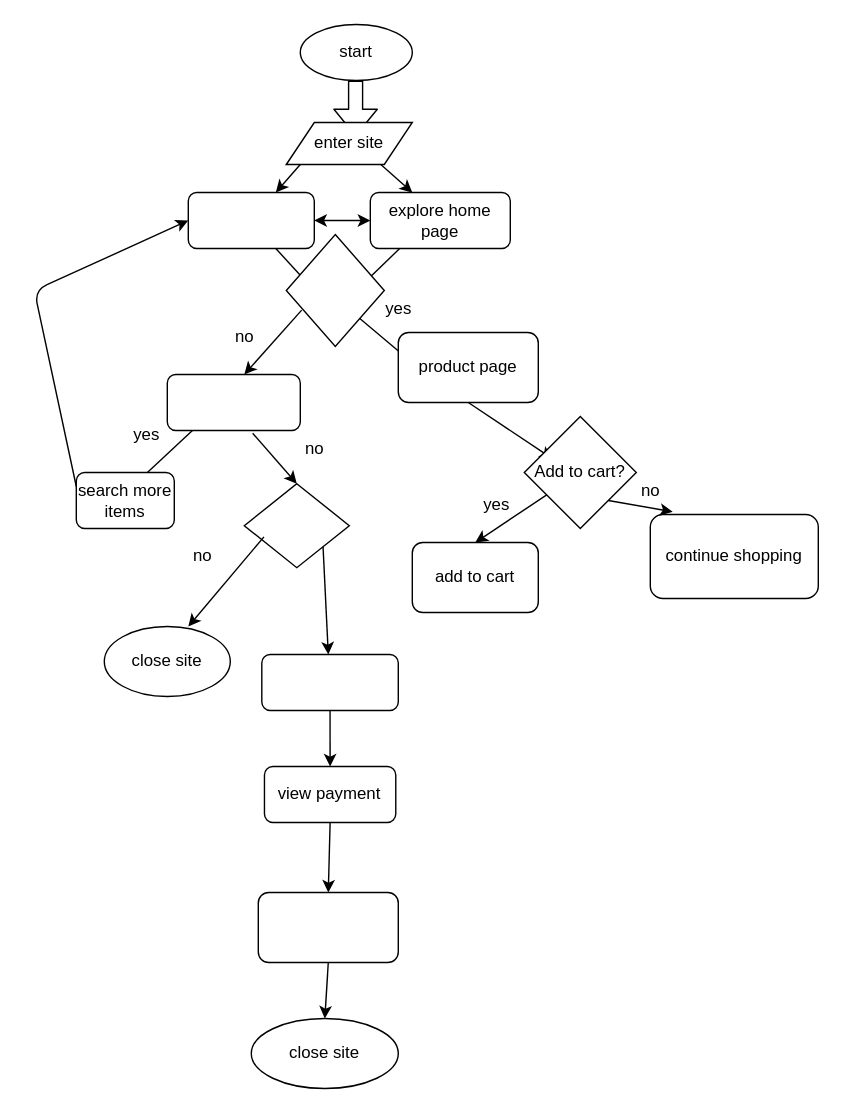
Some shapes in this 843 by 1113 pixel diagram are drawn without their labels. The box of each missing label's shape, as (x1, y1, x2, y2) in pixels:
checkout items?: (243, 482, 349, 568)
continue shopping?: (166, 373, 300, 430)
order confirmation: (257, 891, 398, 962)
search item: (187, 191, 314, 248)
view cart: (260, 653, 398, 710)
view specific item?: (285, 233, 384, 346)
